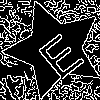E: (29, 24, 86, 82)
